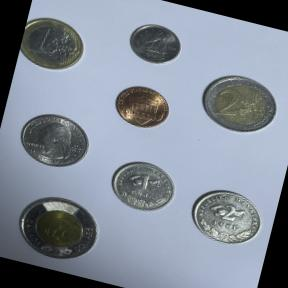coin: (7, 184, 108, 270), (188, 64, 287, 146), (9, 104, 99, 178), (182, 181, 269, 254), (16, 9, 94, 80), (106, 78, 178, 137), (120, 16, 189, 74)
